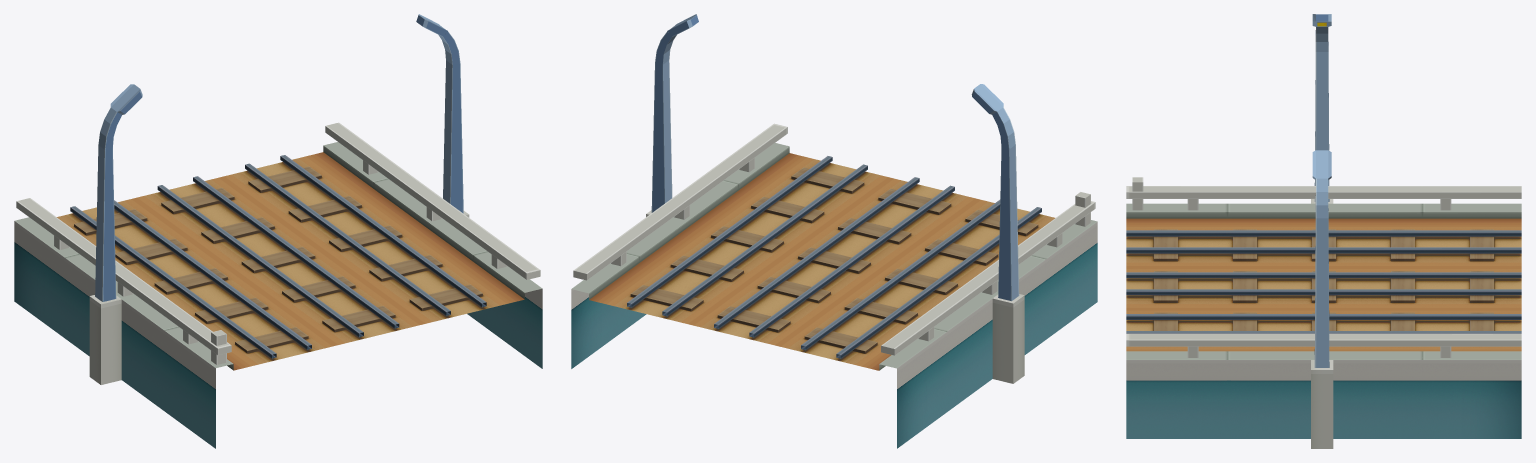
File: Bridge02.FBX
3 renders of one model, left to right at view 1: azimuth 30°, elevation 25°; view 2: azimuth 150°, elevation 25°; view 3: azimuth 270°, elevation 25°, orthographic.
Visible parts, largest first — view 1: Rail, Side; view 2: Rail, Side; view 3: Side, Rail.
Part boxes in pixels (x1,y1,x2,y2): Rail: (57,152,524,370); Side: (14,14,542,448); Rail: (589,153,1054,370); Side: (571,14,1097,448); Side: (1126,14,1521,448); Rail: (1126,218,1521,351).
Size of the model in its own units: 844 by 623 by 800.
